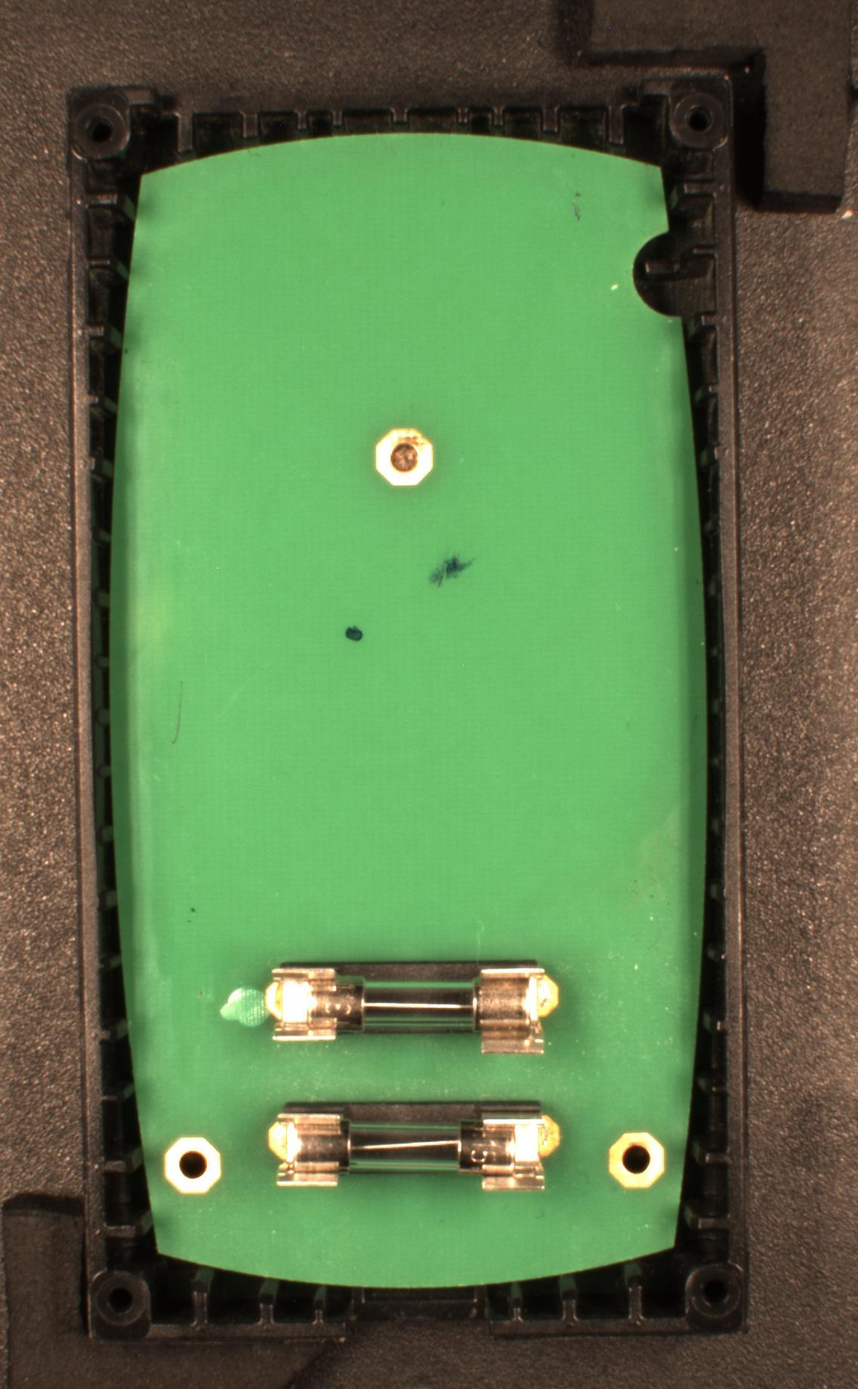Tockasto Ostecenje: (428, 551, 478, 587), (342, 623, 365, 643)
